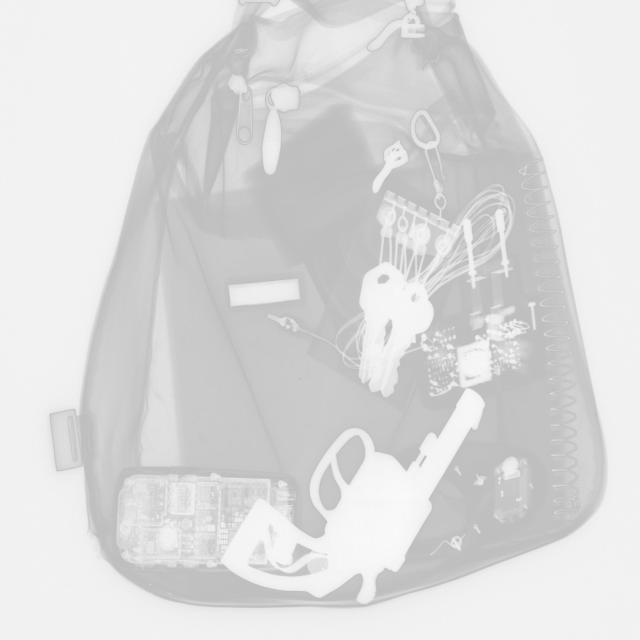grenade: (94, 466, 306, 588)
